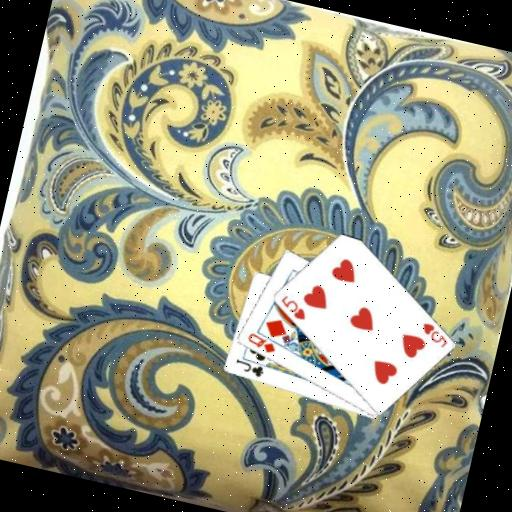5H: (416, 319, 453, 351), (275, 291, 311, 322)
JC: (230, 355, 267, 380)
QD: (242, 329, 280, 356)
